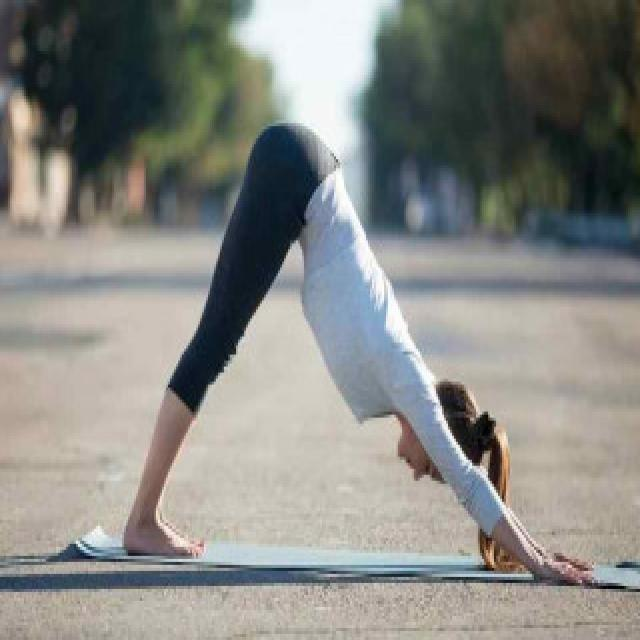yoga-pose downward: (119, 118, 592, 584)
